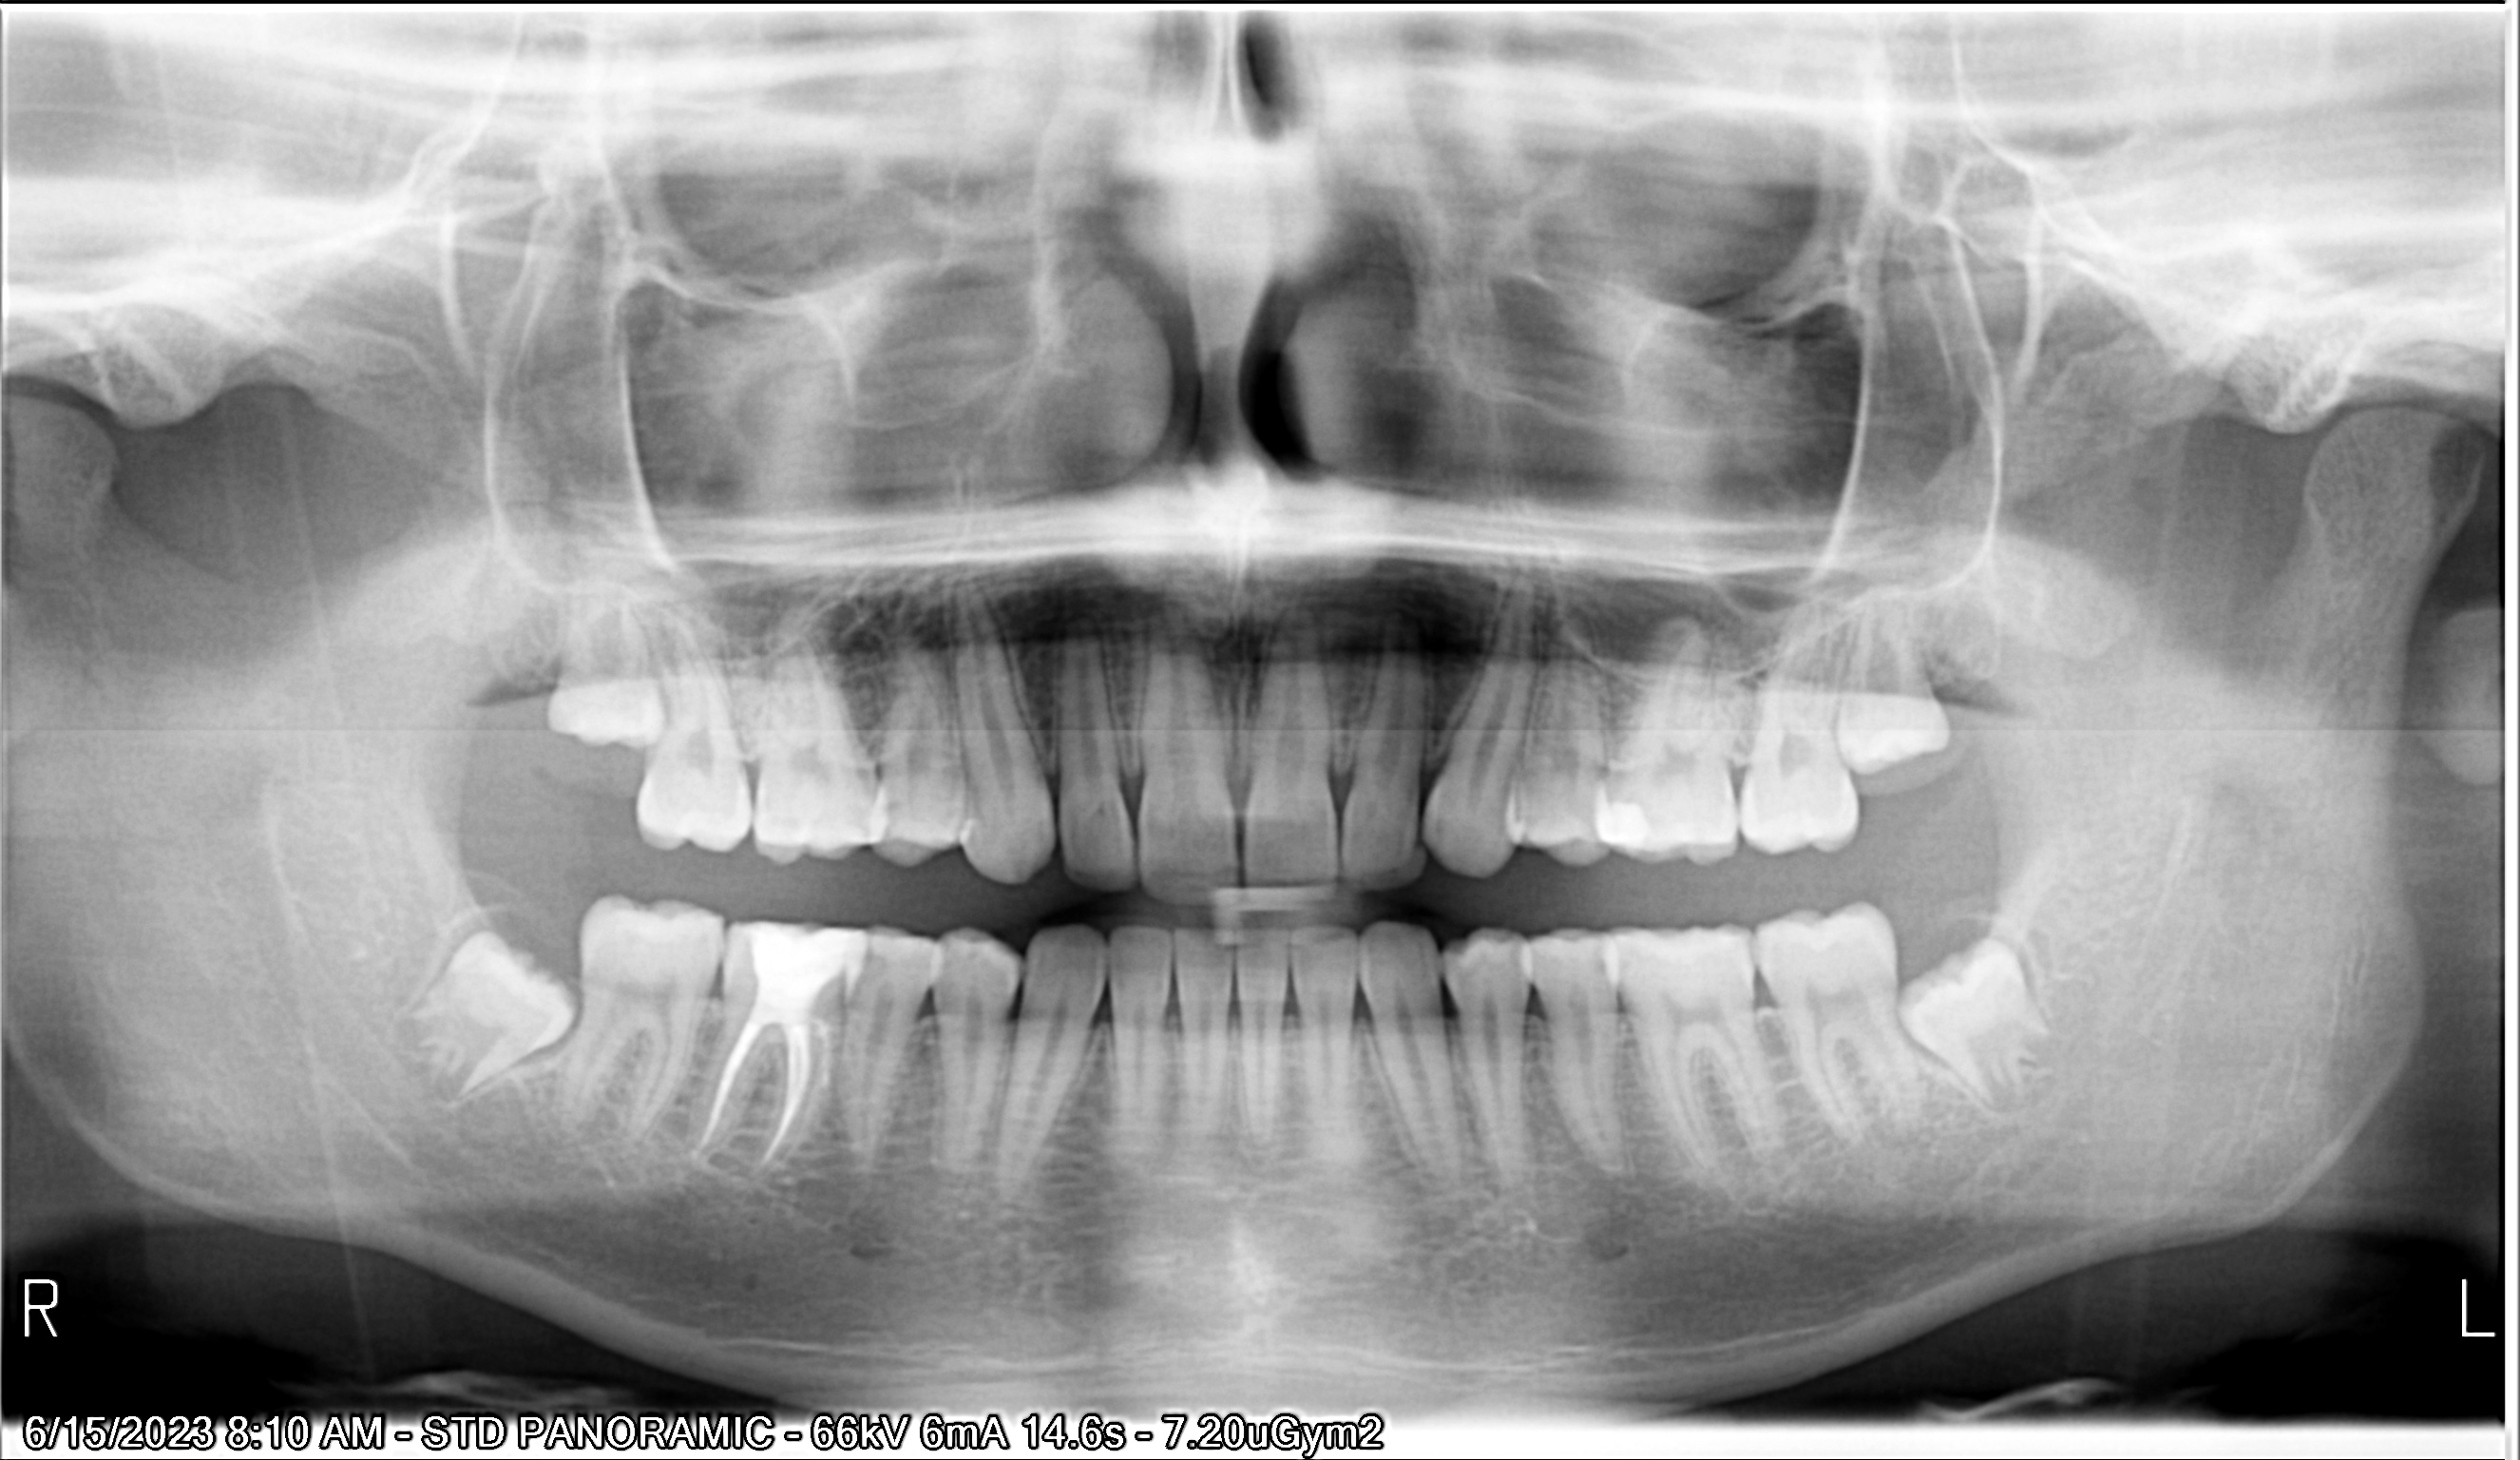CAR: (858, 940, 900, 1001), (877, 800, 907, 838), (1622, 946, 1638, 989), (1591, 952, 1606, 991)
END: (695, 1012, 752, 1185), (757, 1015, 813, 1177)
IMT: (396, 888, 568, 1125), (1909, 925, 2082, 1126), (530, 581, 667, 758), (1839, 591, 1947, 756)
OBT: (740, 916, 844, 1010), (1601, 766, 1672, 857)
